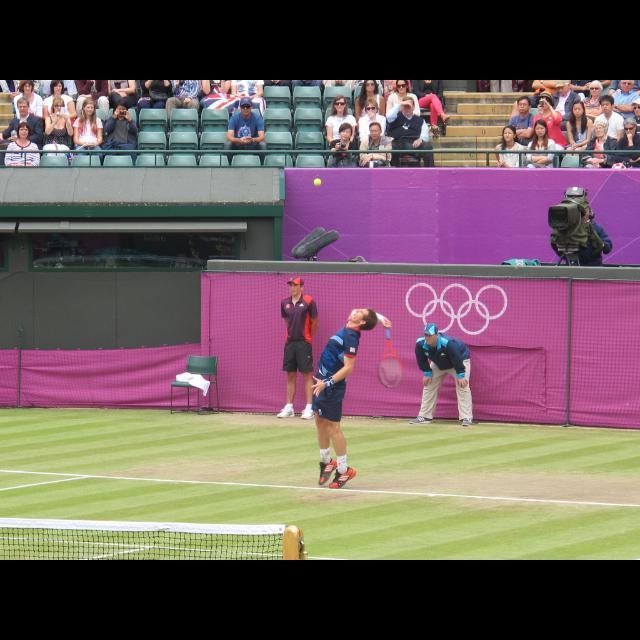tennis-ball: (313, 177, 321, 186)
